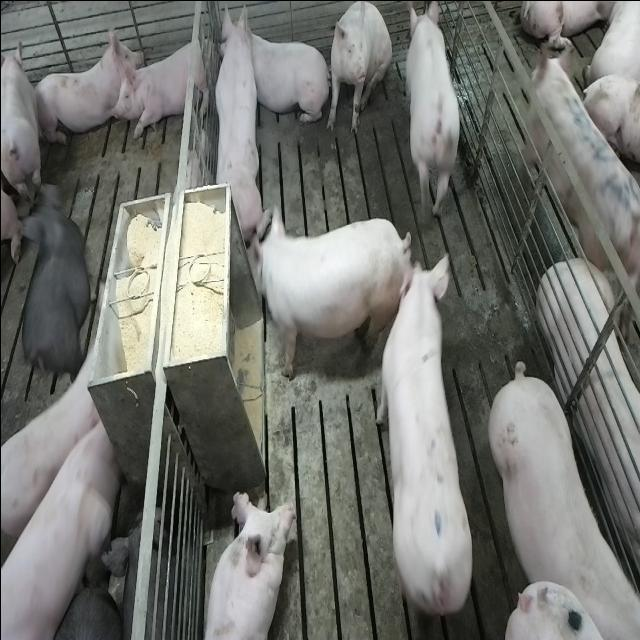Feeding: (248, 204, 418, 383)
Lateral_lying: (539, 260, 640, 584)
Sitting: (208, 8, 264, 246), (326, 2, 393, 138)
Standing: (484, 358, 634, 634), (373, 245, 468, 624), (521, 43, 640, 335), (2, 359, 106, 593), (20, 185, 90, 382), (403, 0, 461, 224), (0, 32, 40, 198)
Sternal_lying: (198, 488, 294, 640), (31, 20, 139, 146), (118, 29, 214, 141), (242, 28, 326, 122)
